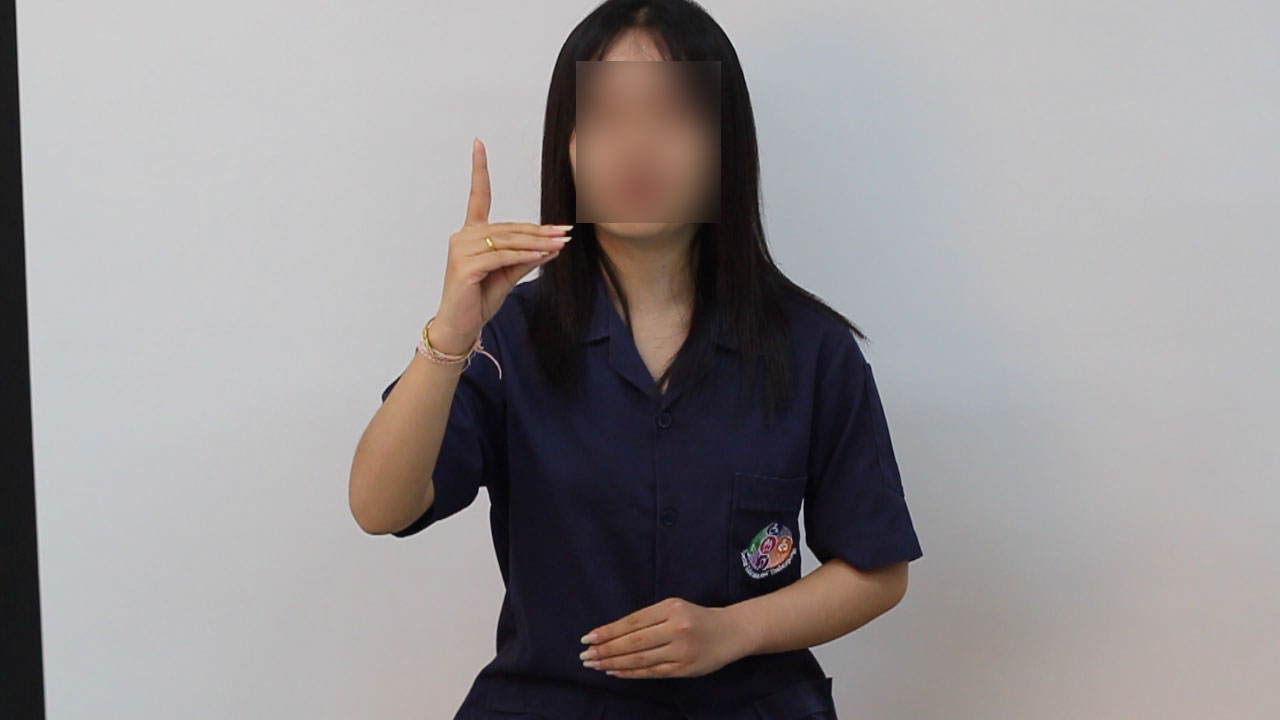dor: (426, 131, 583, 342)
